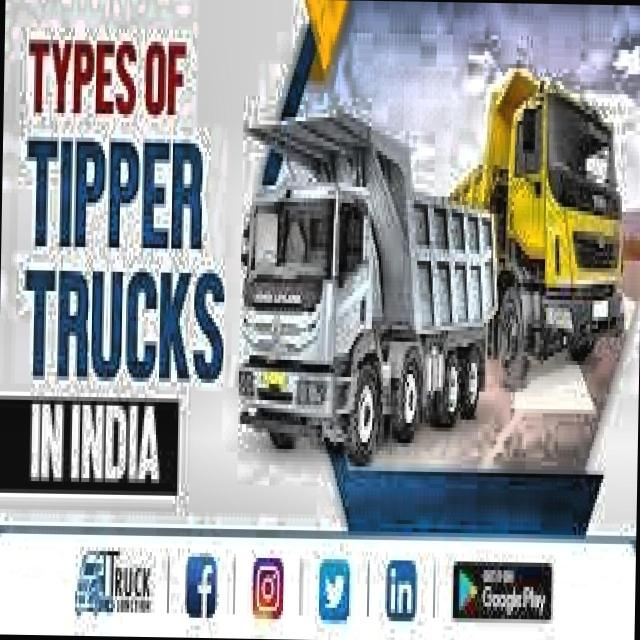dump_truck: (237, 96, 503, 472), (441, 59, 627, 394)
